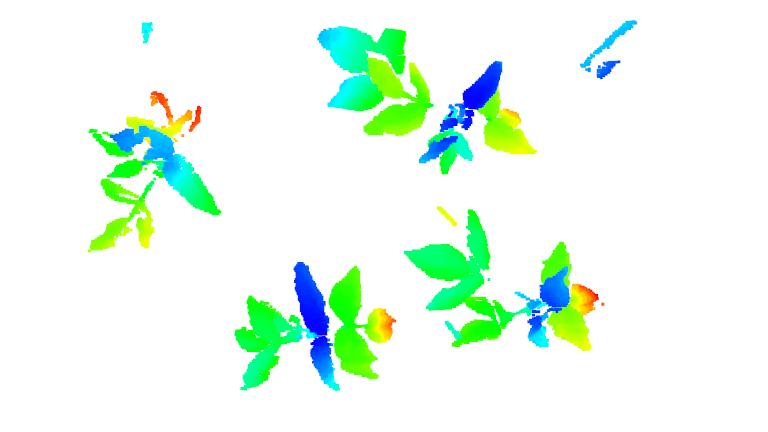mungbean: (313, 21, 542, 176), (397, 210, 613, 355), (82, 89, 230, 255), (236, 265, 404, 394)
